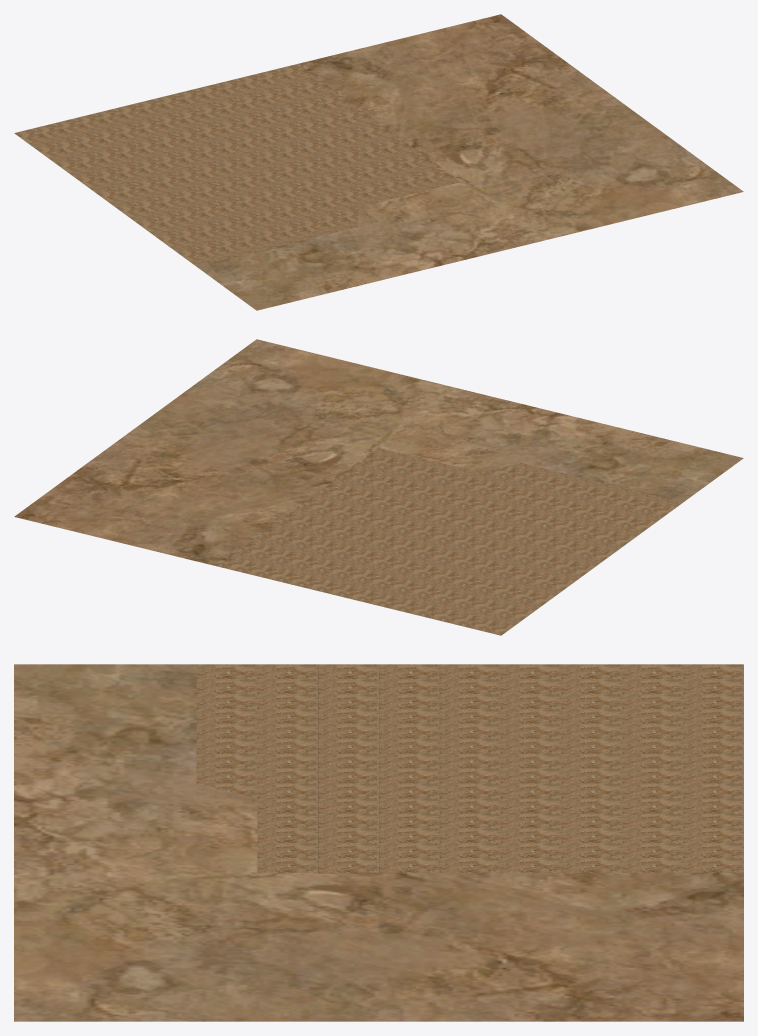
File: s_battle_04_plane.FBX
3 renders of one model, top to bottom at view 1: azimuth 30°, elevation 25°; view 2: azimuth 150°, elevation 25°; view 3: azimuth 270°, elevation 25°, orthographic. The views are drawn at different scales.
Parts seen in each view (by area): view 1: p2, p1; view 2: p2, p1; view 3: p2, p1.
Part boxes in pixels (x1=…): p2: x1=196, y1=14, x2=743, y2=310; p1: x1=14, y1=64, x2=459, y2=266; p2: x1=14, y1=339, x2=743, y2=566; p1: x1=217, y1=448, x2=682, y2=635; p2: x1=14, y1=664, x2=743, y2=1021; p1: x1=196, y1=664, x2=743, y2=872.
Bounding box in the file's own units: 435 × 9.16e-05 × 375.
Materials: 1 (1 with a texture image).
